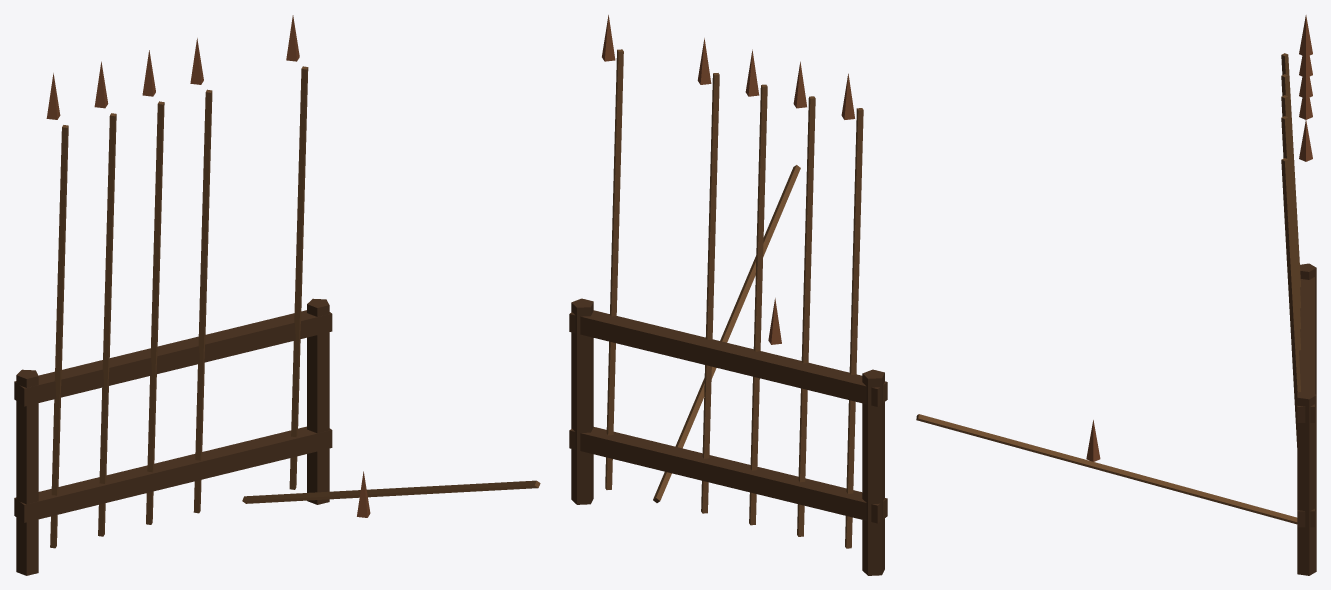
File: sanseong_spear_rack.glb
3 renders of one model, left to right at view 1: azimuth 30°, elevation 25°; view 2: azimuth 150°, elevation 25°; view 3: azimuth 270°, elevation 25°, orthographic. The views are drawn at different scales.
Visible parts, largest first — view 1: sanseong_spear_rack; view 2: sanseong_spear_rack; view 3: sanseong_spear_rack.
Boxes of the visible parts, x1,y1,x2,y2 form: sanseong_spear_rack: (14,15,540,575); sanseong_spear_rack: (569,15,887,575); sanseong_spear_rack: (916,15,1316,575).
Bounding box in the file's own units: 1.81 × 2.75 × 2.26.
